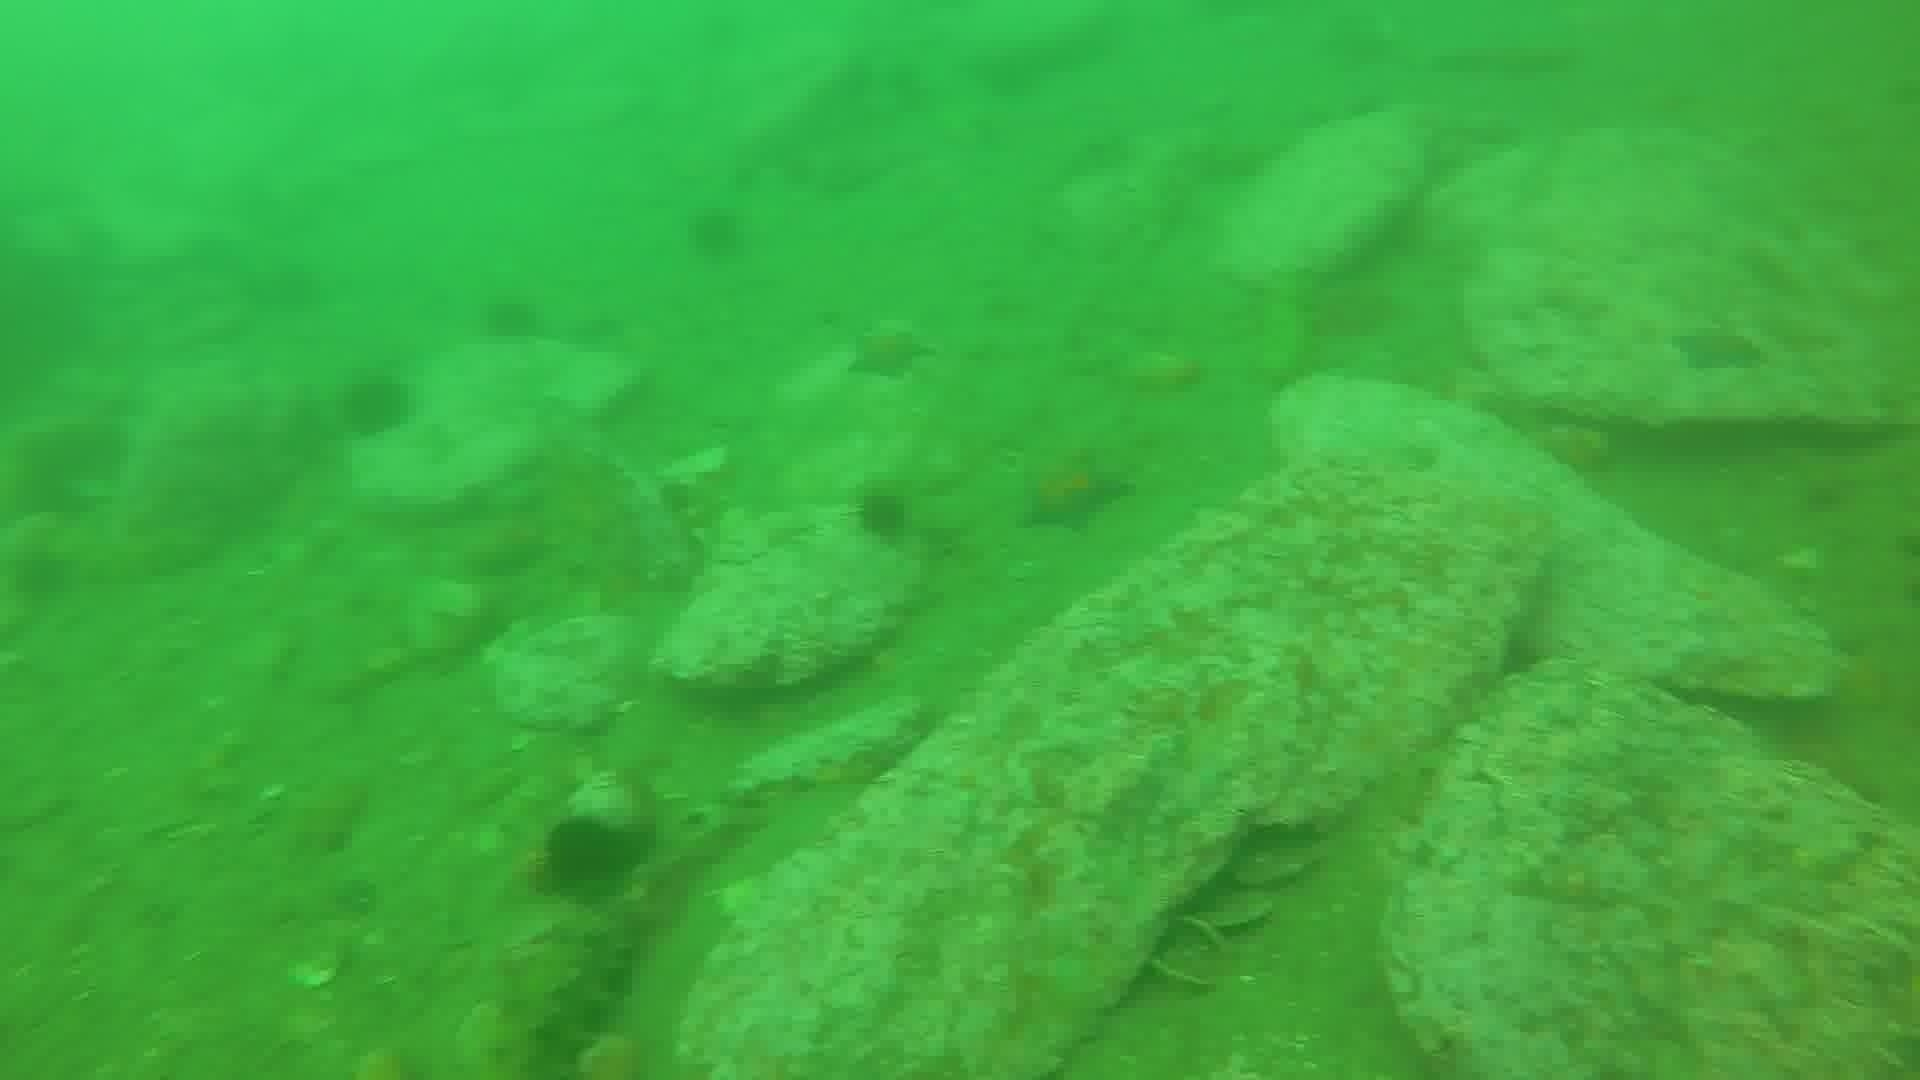echinus: (531, 810, 641, 903), (335, 368, 417, 443), (848, 481, 919, 549), (682, 200, 752, 266), (475, 287, 546, 348)
holothurian: (495, 905, 641, 1077)
starfish: (1011, 444, 1135, 538), (1665, 318, 1768, 380), (843, 319, 938, 385)
